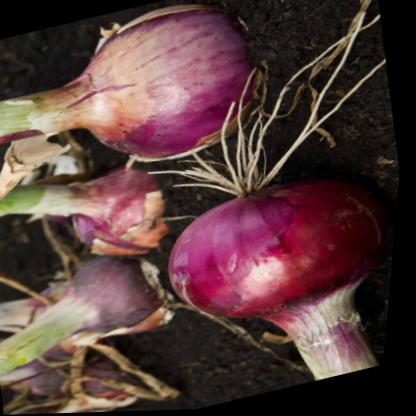onion: (148, 162, 403, 353), (41, 0, 282, 181), (44, 229, 180, 355)
